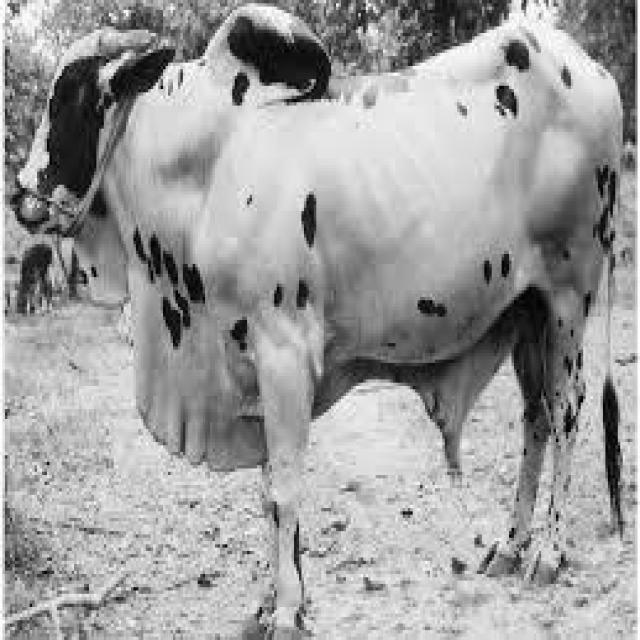Cow: (10, 0, 625, 637)
